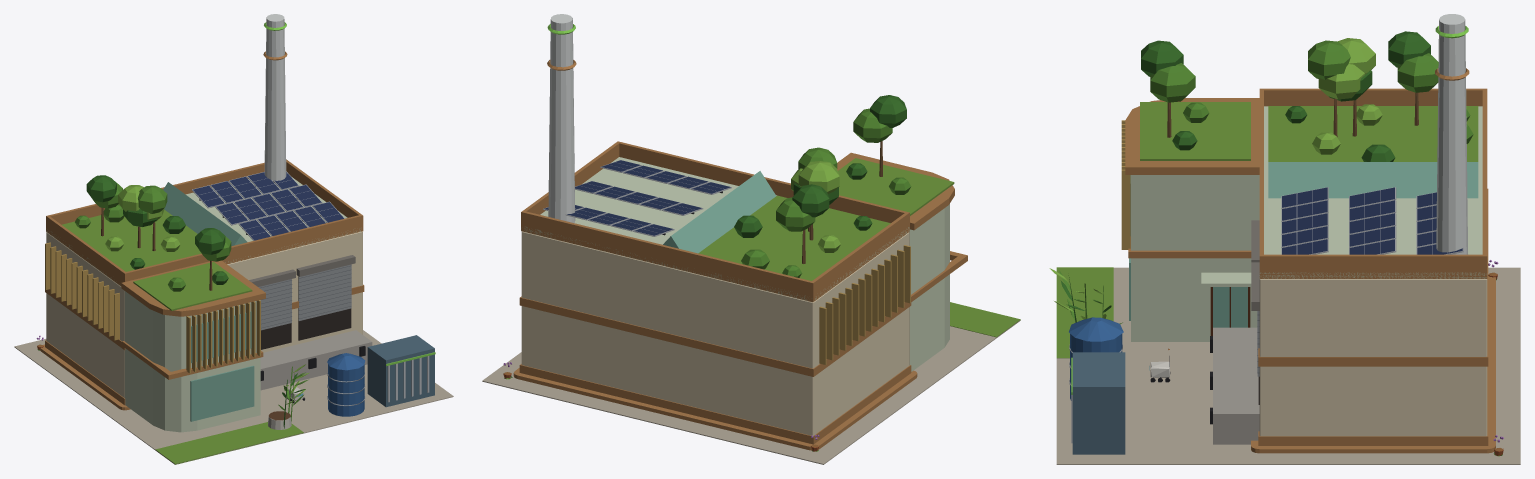
Rendered from factory_3.glb.
3 views of the same model, side by side, from view 1: azimuth 30°, elevation 25°; view 2: azimuth 150°, elevation 25°; view 3: azimuth 270°, elevation 25° (orthographic). The views are drawn at different scales.
Parts seen in each view (by area): view 1: body, windows; view 2: body; view 3: body.
Boxes of the visible parts, x1=… form: body: x1=14, y1=14, x2=453, y2=464; windows: x1=261, y1=22, x2=435, y2=396; body: x1=482, y1=14, x2=1020, y2=464; body: x1=1049, y1=14, x2=1520, y2=464.
Size of the model in its own units: 15.9 by 15.97 by 16.16.
